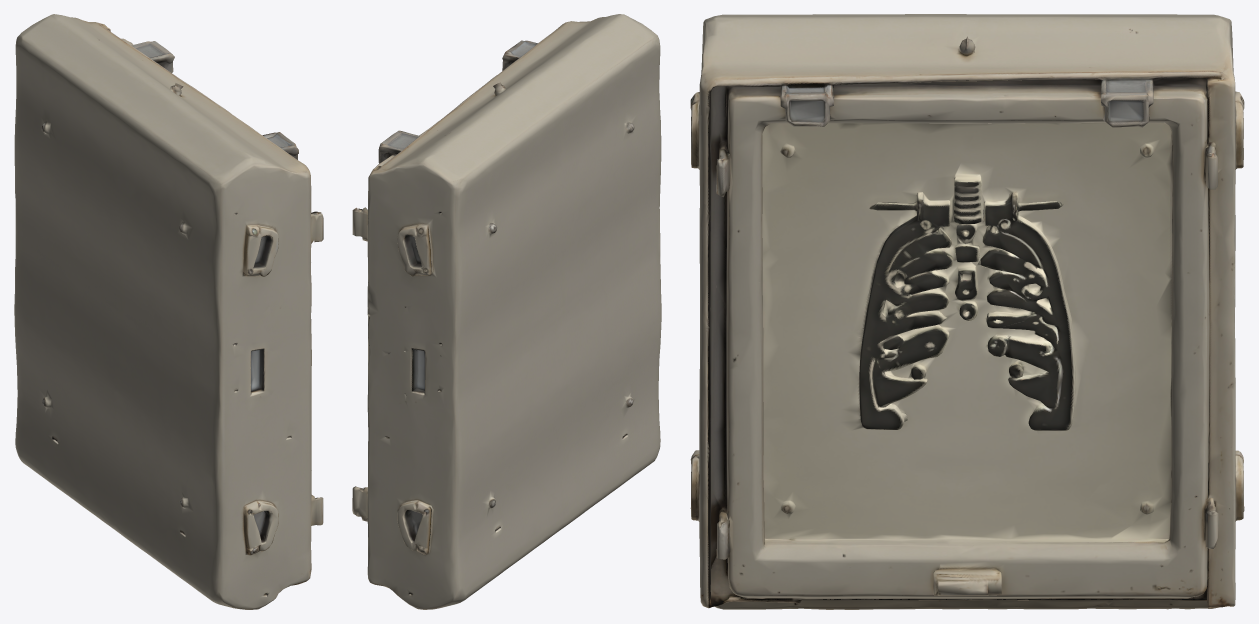
The picture shows the model from 3 angles, left to right: view 1: azimuth 30°, elevation 25°; view 2: azimuth 150°, elevation 25°; view 3: azimuth 270°, elevation 25°; orthographic projection. The views are drawn at different scales.
Parts seen in each view (by area): view 1: tripo_node_cc7d3d71-df45-4946-8268-71b02e7bf233; view 2: tripo_node_cc7d3d71-df45-4946-8268-71b02e7bf233; view 3: tripo_node_cc7d3d71-df45-4946-8268-71b02e7bf233.
Part boxes in pixels (box(x1,y1,x2,y2)): tripo_node_cc7d3d71-df45-4946-8268-71b02e7bf233: box(14, 14, 323, 609); tripo_node_cc7d3d71-df45-4946-8268-71b02e7bf233: box(352, 14, 661, 609); tripo_node_cc7d3d71-df45-4946-8268-71b02e7bf233: box(690, 14, 1244, 609).
Bounding box in the file's own units: 0.2756 × 1 × 0.8616.
Materials: 1 (1 with a texture image).
